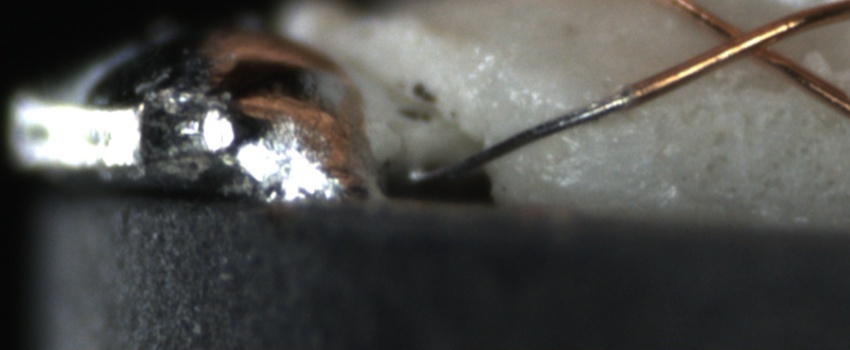CL: (698, 12, 793, 71)
DL: (649, 72, 813, 107)
TS: (388, 86, 631, 194)
